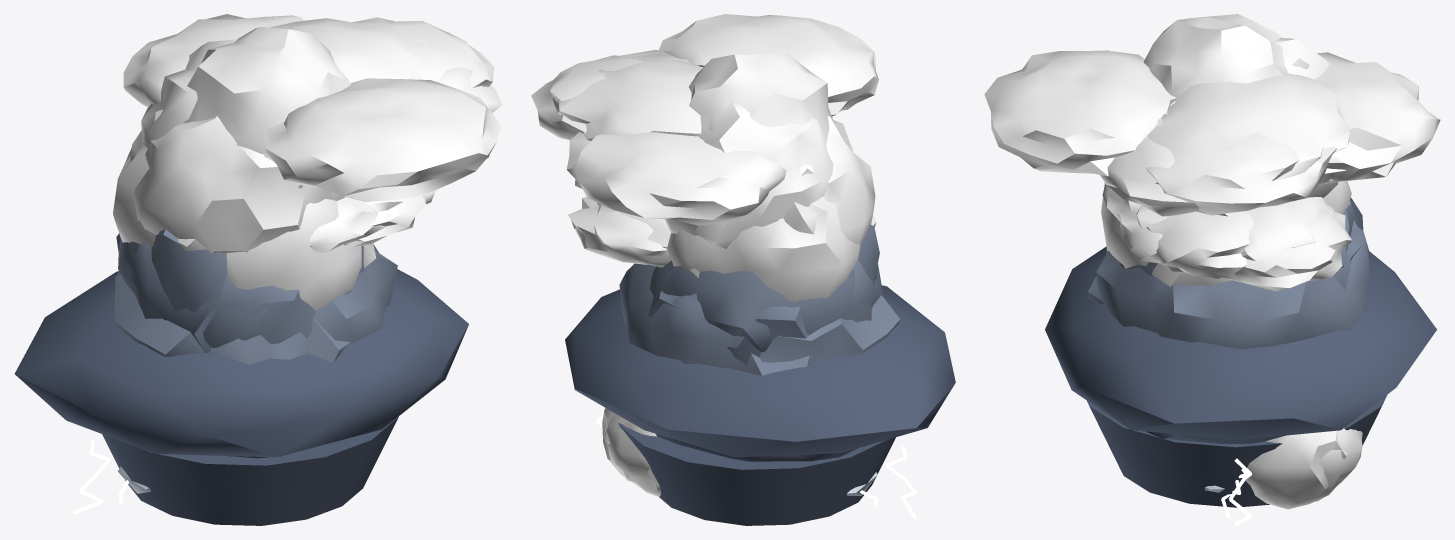
File: weather.glb
3 views of the same model, side by side, from view 1: azimuth 30°, elevation 25°; view 2: azimuth 150°, elevation 25°; view 3: azimuth 270°, elevation 25° (orthographic). The views are drawn at different scales.
Visible parts, largest first — view 1: storm_cell_a_body, storm_cell_a_core, storm_cell_b_body; view 2: storm_cell_a_body, storm_cell_a_core, storm_cell_b_body, cloud_c_body; view 3: storm_cell_a_body, storm_cell_b_body, storm_cell_a_core, cloud_c_body.
Boxes of the visible parts, x1,y1,x2,y2 form: storm_cell_a_body: (14, 14, 502, 457); storm_cell_a_core: (102, 416, 398, 525); storm_cell_b_body: (228, 190, 435, 458); storm_cell_a_body: (531, 14, 955, 457); storm_cell_a_core: (618, 422, 895, 525); storm_cell_b_body: (568, 197, 858, 461); cloud_c_body: (602, 408, 877, 496); storm_cell_a_body: (984, 14, 1440, 440); storm_cell_b_body: (1102, 183, 1352, 443); storm_cell_a_core: (1086, 395, 1386, 507); cloud_c_body: (1204, 427, 1362, 509).
Size of the model in its own units: 64.41 by 64.22 by 58.69.
